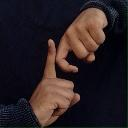hand: (28, 38, 80, 127), (55, 7, 108, 74)
